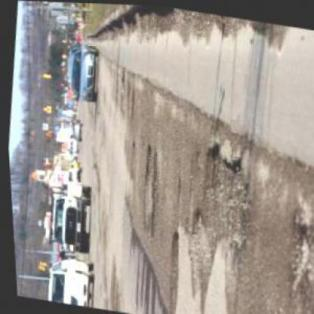Hueco: (191, 137, 261, 245), (278, 207, 313, 297), (180, 205, 216, 285), (140, 143, 169, 238), (157, 222, 186, 313), (133, 140, 153, 226), (125, 135, 138, 179)
